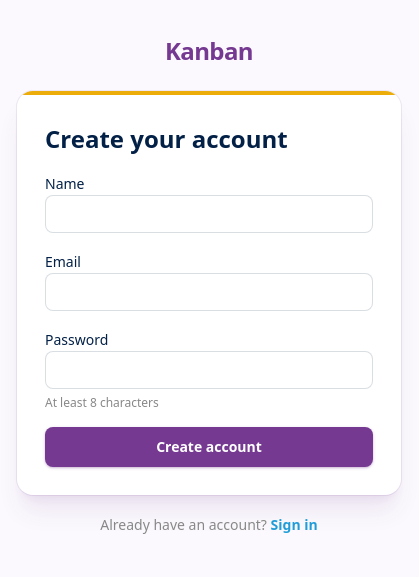
Test case: AuthForm › falls back to a generic error when the response has no message
Type "Alice" into the field labelled "Name" at (209, 214), box [45, 195, 373, 233]
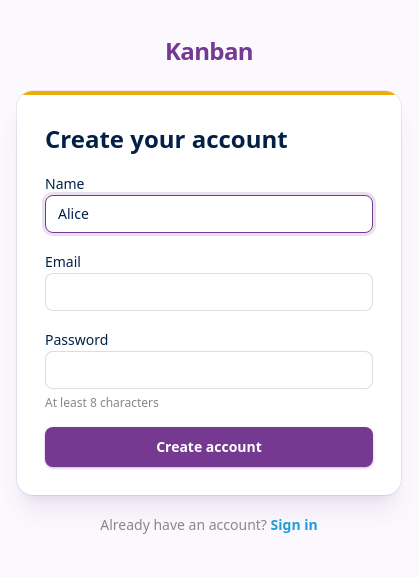
Type "a@example.com" into the field labelled "Email" at (209, 292), box [45, 273, 373, 311]
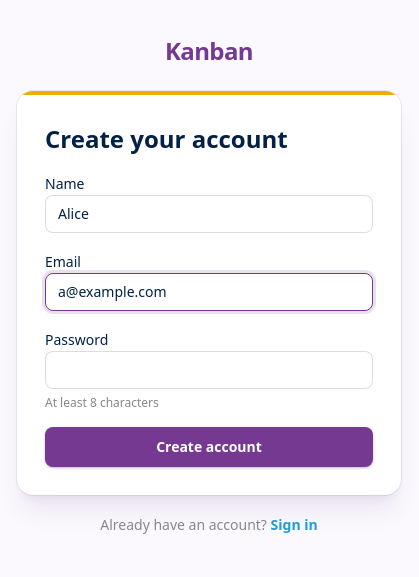
Type "password123" into the password field labelled "Password" at (209, 370), box [45, 351, 373, 389]
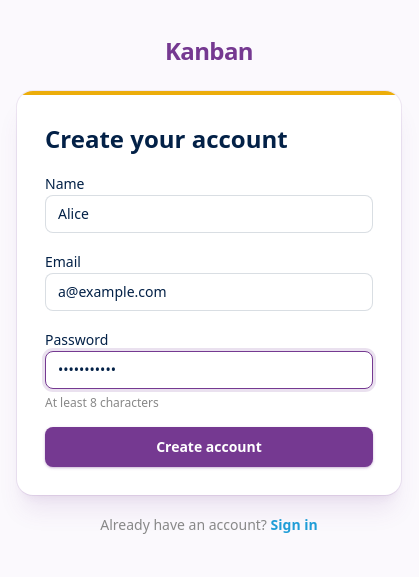
Click the button "Create account" at (209, 447), box [45, 427, 373, 467]
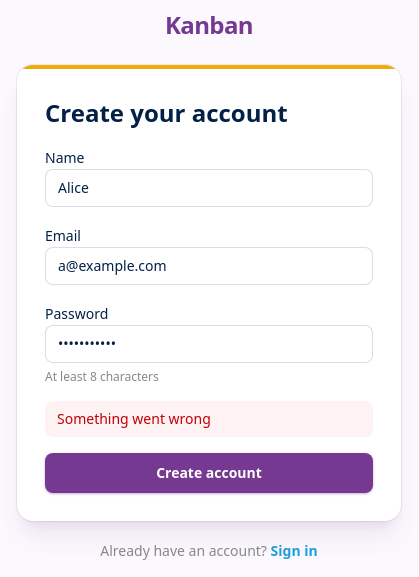
Now the message reads "Something went wrong", box [57, 409, 211, 428]
